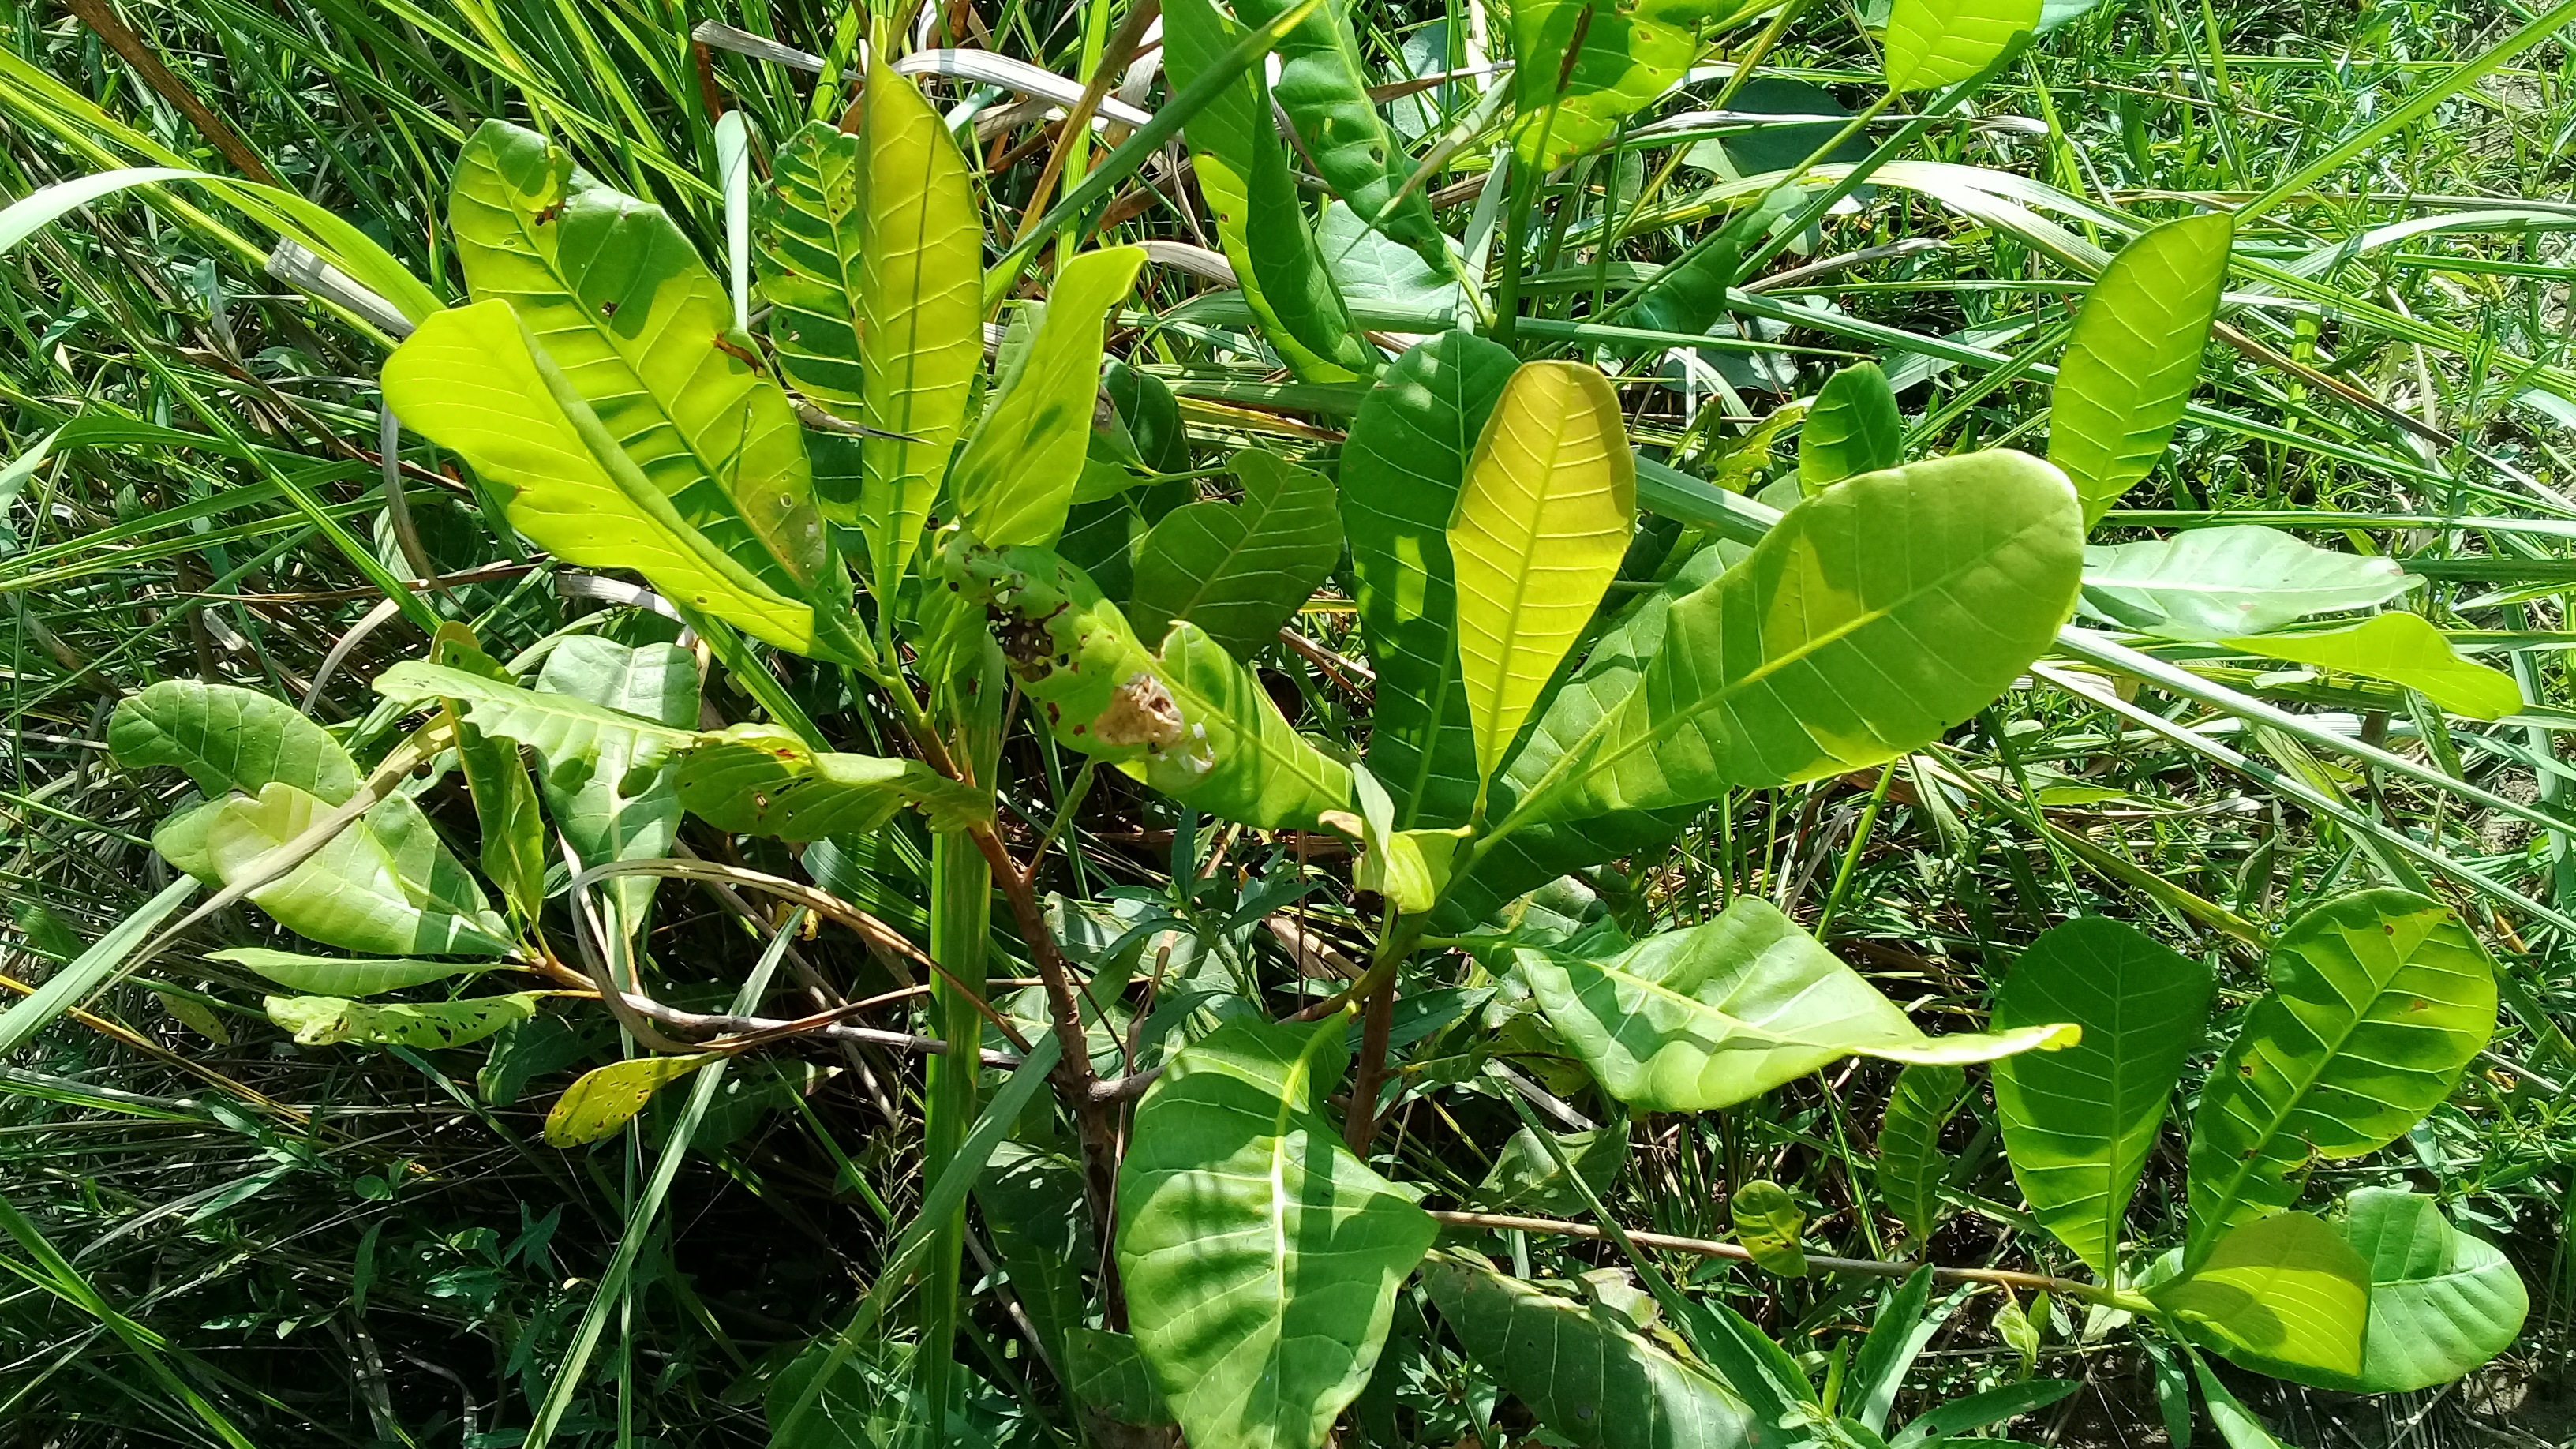Anoplonemis curvipes: (929, 529, 1421, 911)
